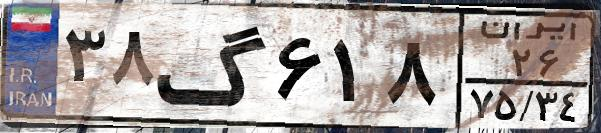1: (330, 28, 385, 110)
2: (508, 27, 537, 80)
3: (57, 26, 110, 100), (535, 70, 560, 125)
4: (560, 70, 590, 125)
5: (495, 70, 520, 125)
6: (270, 28, 330, 110), (537, 27, 568, 80)
7: (470, 70, 495, 125)
8: (385, 28, 445, 110), (110, 28, 156, 98)
گ: (156, 12, 270, 120)
